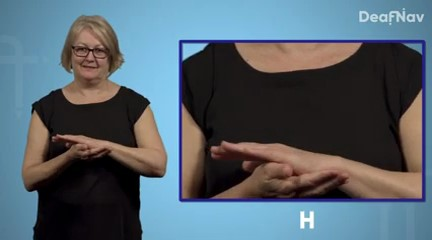H: (207, 136, 360, 199), (50, 132, 113, 172)
